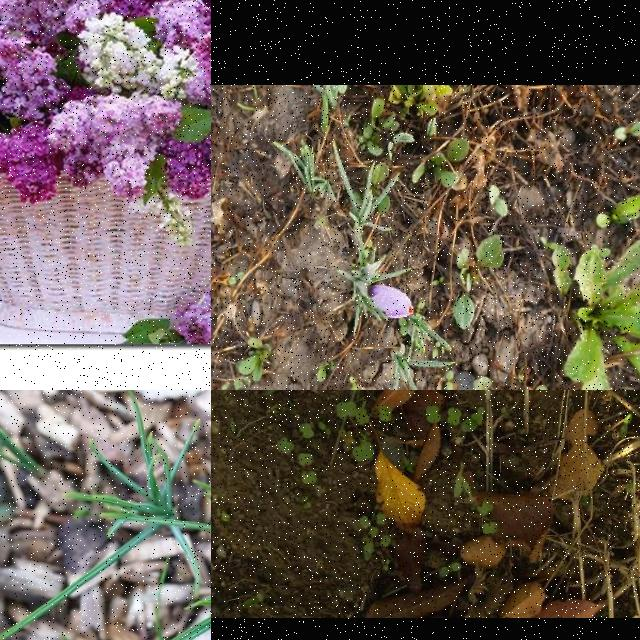flower: (358, 284, 414, 320)
